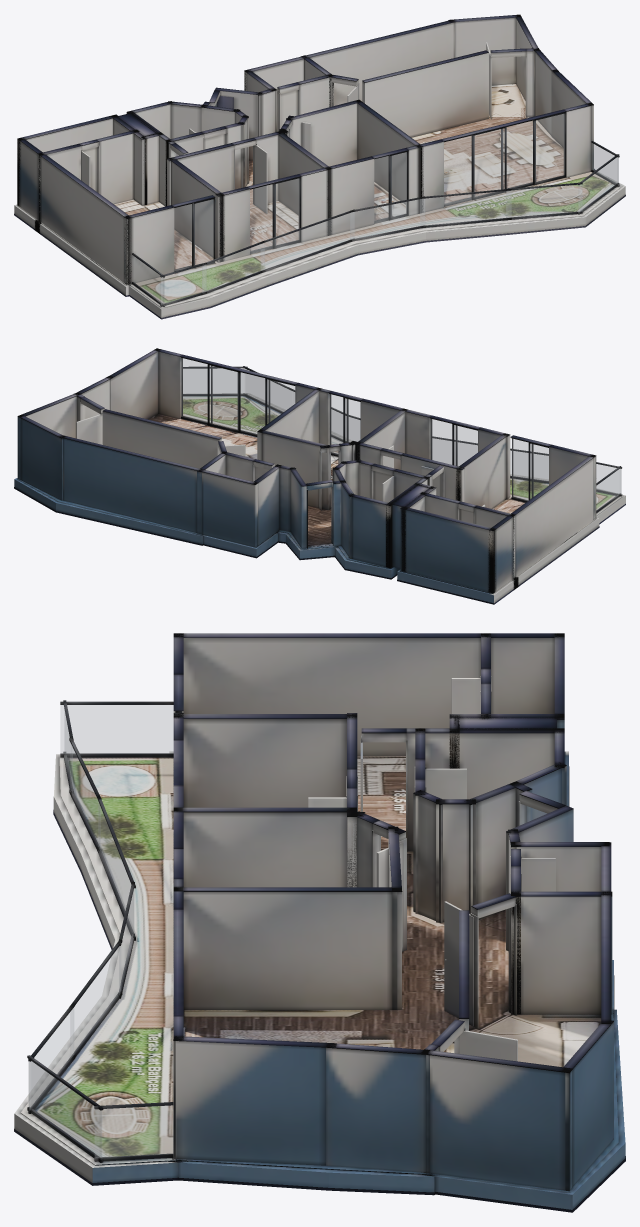
3 views of the same model, one above another, from view 1: azimuth 30°, elevation 25°; view 2: azimuth 150°, elevation 25°; view 3: azimuth 270°, elevation 25° (orthographic). The views are drawn at different scales.
Parts seen in each view (by area): view 1: plan, glass0_m, glass2_m, railg5_m, railg3_m, glass3_m, railg2_m, railg4_m, glass1_m, railg6_m, railg7_m, railg1_m (+2 smaller); view 2: plan, glass0_m, glass3_m, glass2_m, glass1_m, railg1_m, railg2_m, railg6_m, railg5_m, railg8_m, railg7_m; view 3: plan, railg8_m, railg0_m, railg1_m, railg3_m, railg2_m, railg5_m, railg6_m.
Boxes of the visible parts, <box> form: plan: <box>14,14,625,319</box>; glass0_m: <box>444,114,564,204</box>; glass2_m: <box>250,178,299,251</box>; railg5_m: <box>261,212,353,270</box>; railg3_m: <box>420,191,511,225</box>; glass3_m: <box>174,199,213,270</box>; railg2_m: <box>506,184,582,217</box>; railg4_m: <box>350,199,424,239</box>; glass1_m: <box>374,152,406,221</box>; railg6_m: <box>202,243,264,292</box>; railg7_m: <box>161,265,206,304</box>; railg1_m: <box>578,157,617,212</box>; plan: <box>14,348,625,604</box>; glass0_m: <box>181,358,294,434</box>; glass3_m: <box>512,439,548,500</box>; glass2_m: <box>431,419,477,465</box>; glass1_m: <box>330,394,360,454</box>; railg1_m: <box>183,368,246,393</box>; railg2_m: <box>244,368,288,411</box>; railg6_m: <box>510,451,548,480</box>; railg5_m: <box>433,439,477,465</box>; railg8_m: <box>596,469,620,510</box>; railg7_m: <box>596,464,621,494</box>; plan: <box>14,633,625,1212</box>; railg8_m: <box>60,705,173,753</box>; railg0_m: <box>95,1105,172,1157</box>; railg1_m: <box>28,1061,101,1158</box>; railg3_m: <box>70,946,120,1057</box>; railg2_m: <box>29,1008,73,1109</box>; railg5_m: <box>98,802,134,936</box>; railg6_m: <box>70,743,100,849</box>.
Bounding box in the file's own units: 18.14 × 2.62 × 10.57.
Materials: 2 (1 with a texture image).
